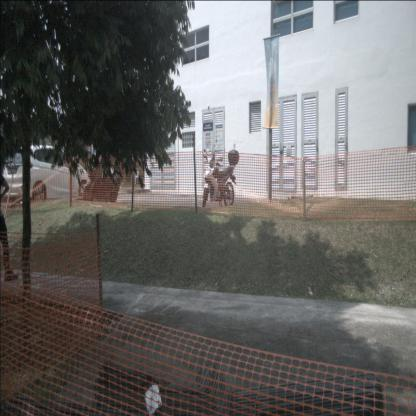human-pedestrian-adult: (0, 126, 19, 282)
vehicle-car: (0, 145, 91, 206)
vehicle-motorcycle: (202, 148, 239, 208), (81, 154, 121, 204)
